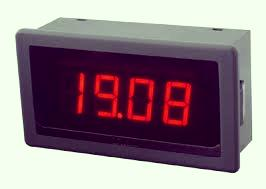.: (117, 112, 124, 120)
0: (126, 76, 154, 123)
1: (76, 72, 86, 115)
8: (162, 80, 192, 127)
9: (94, 75, 118, 119)
